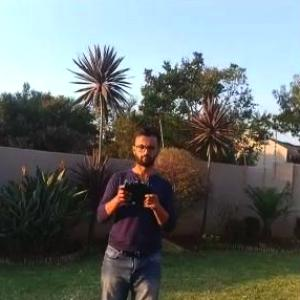follow: (88, 116, 185, 299)
